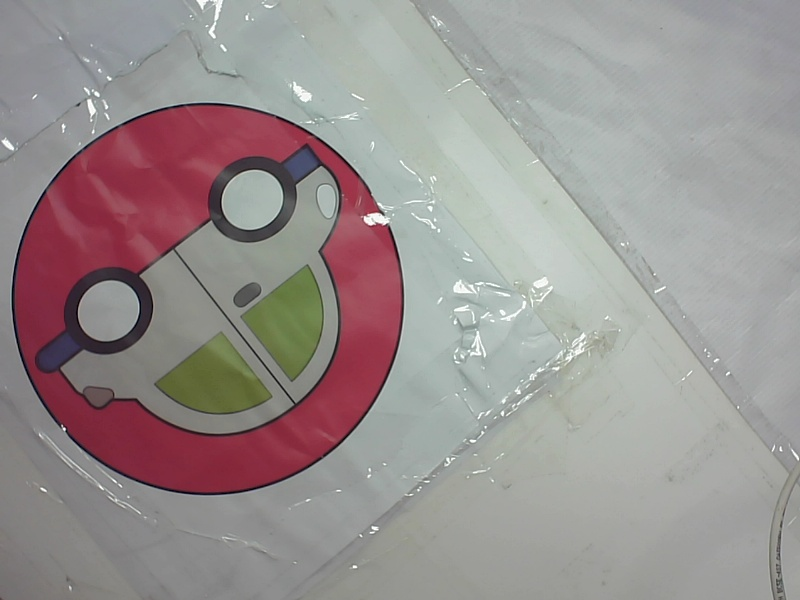areaC: (6, 96, 418, 508)
